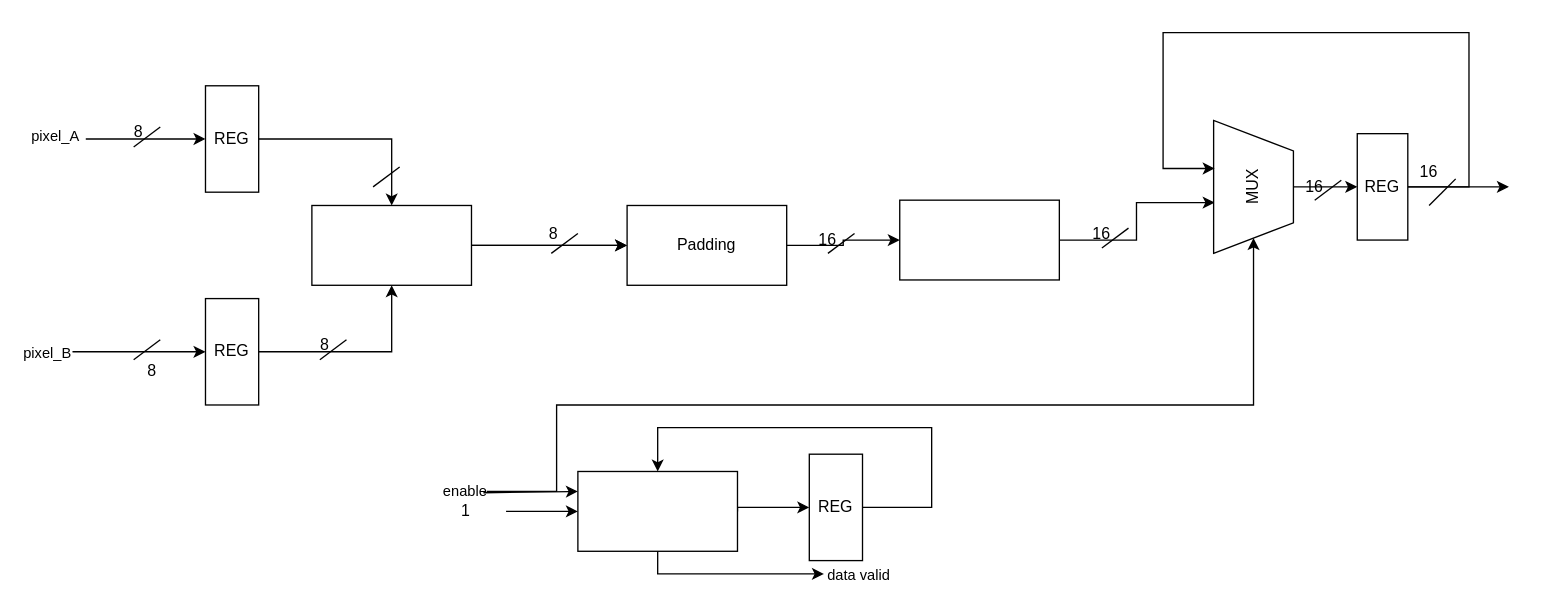
The diagram is 1543 pixels wide and 608 high, and some of its shapes have lost their labels. The shapes that lost their labels are listed below. From the top down, each one's centre as x and y in pixels, then its label:
At (x=391, y=244): "Subtractor".
At (x=978, y=239): "Phase Accumulator".
At (x=657, y=510): "counter".
